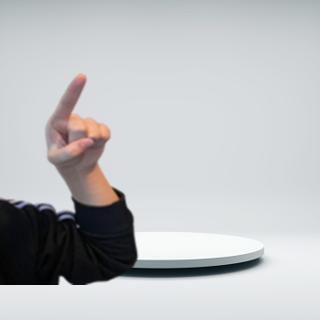IRRITATED: (40, 71, 113, 176)
